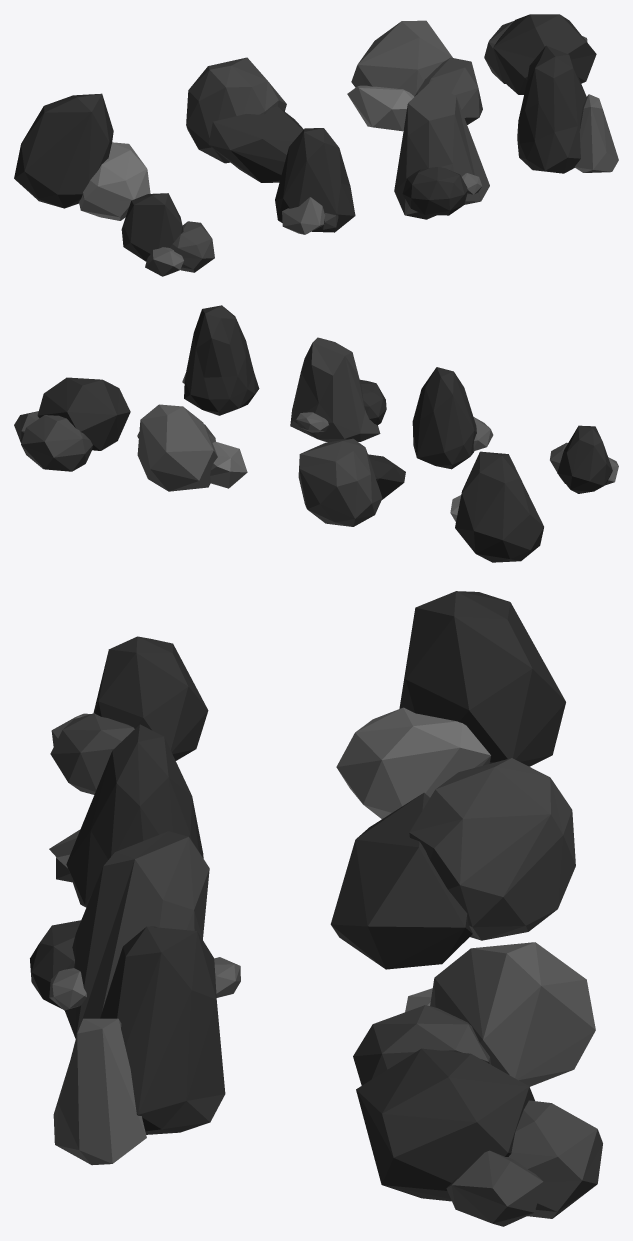
The model's file is large-rocks.fbx.
The picture shows the model from 3 angles, top to bottom: view 1: azimuth 30°, elevation 25°; view 2: azimuth 150°, elevation 25°; view 3: azimuth 270°, elevation 25°; orthographic projection. The views are drawn at different scales.
Visible parts, largest first — view 1: rock_lg_02, rock_lg_01, rock_lg_07, rock_lg_06, rock_lg_03, rock_lg_08, rock_lg_05, rock_lg_04; view 2: rock_lg_04, rock_lg_02, rock_lg_07, rock_lg_03, rock_lg_01, rock_lg_06, rock_lg_08, rock_lg_05; view 3: rock_lg_01, rock_lg_04, rock_lg_02, rock_lg_06, rock_lg_03, rock_lg_07, rock_lg_05, rock_lg_08.
Part boxes in pixels (bbox=[...]): rock_lg_02: bbox=[14, 93, 150, 220]; rock_lg_01: bbox=[186, 57, 303, 182]; rock_lg_07: bbox=[394, 80, 489, 219]; rock_lg_06: bbox=[517, 45, 618, 173]; rock_lg_03: bbox=[347, 20, 482, 131]; rock_lg_08: bbox=[275, 128, 355, 234]; rock_lg_05: bbox=[121, 193, 214, 276]; rock_lg_04: bbox=[484, 14, 596, 94]; rock_lg_04: bbox=[14, 377, 130, 471]; rock_lg_02: bbox=[450, 451, 543, 562]; rock_lg_07: bbox=[290, 337, 386, 442]; rock_lg_03: bbox=[137, 404, 247, 491]; rock_lg_01: bbox=[298, 438, 405, 526]; rock_lg_06: bbox=[182, 305, 259, 415]; rock_lg_08: bbox=[412, 367, 493, 469]; rock_lg_05: bbox=[550, 425, 618, 493]; rock_lg_01: bbox=[330, 758, 575, 969]; rock_lg_04: bbox=[356, 1048, 602, 1226]; rock_lg_02: bbox=[336, 591, 565, 818]; rock_lg_06: bbox=[53, 926, 225, 1165]; rock_lg_03: bbox=[353, 942, 595, 1086]; rock_lg_07: bbox=[30, 831, 240, 1038]; rock_lg_05: bbox=[50, 636, 208, 794]; rock_lg_08: bbox=[49, 724, 203, 907].
Size of the model in its own units: 1335 by 274 by 637.
